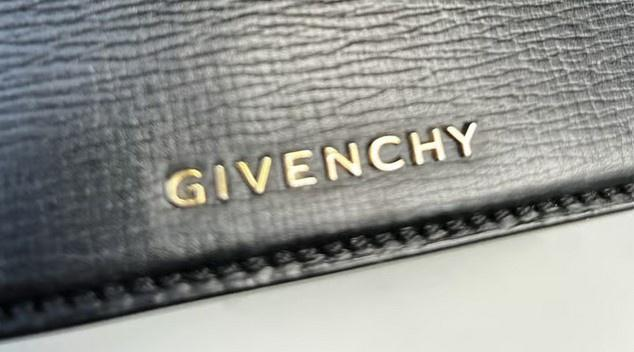GIVENCHY: (149, 108, 503, 217)
